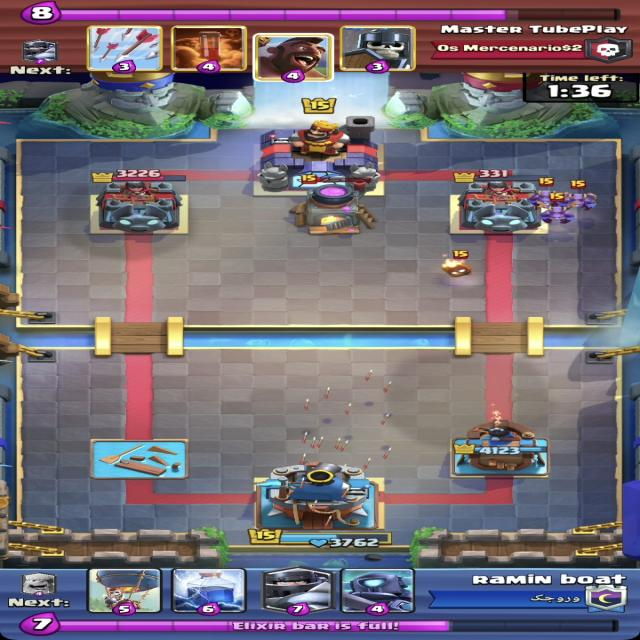Enemy-FireSpirit: (441, 250, 472, 277)
Enemy-Furnace: (289, 174, 379, 235)
Enemy-Minion: (554, 180, 602, 210), (539, 192, 577, 224), (527, 177, 566, 207)
